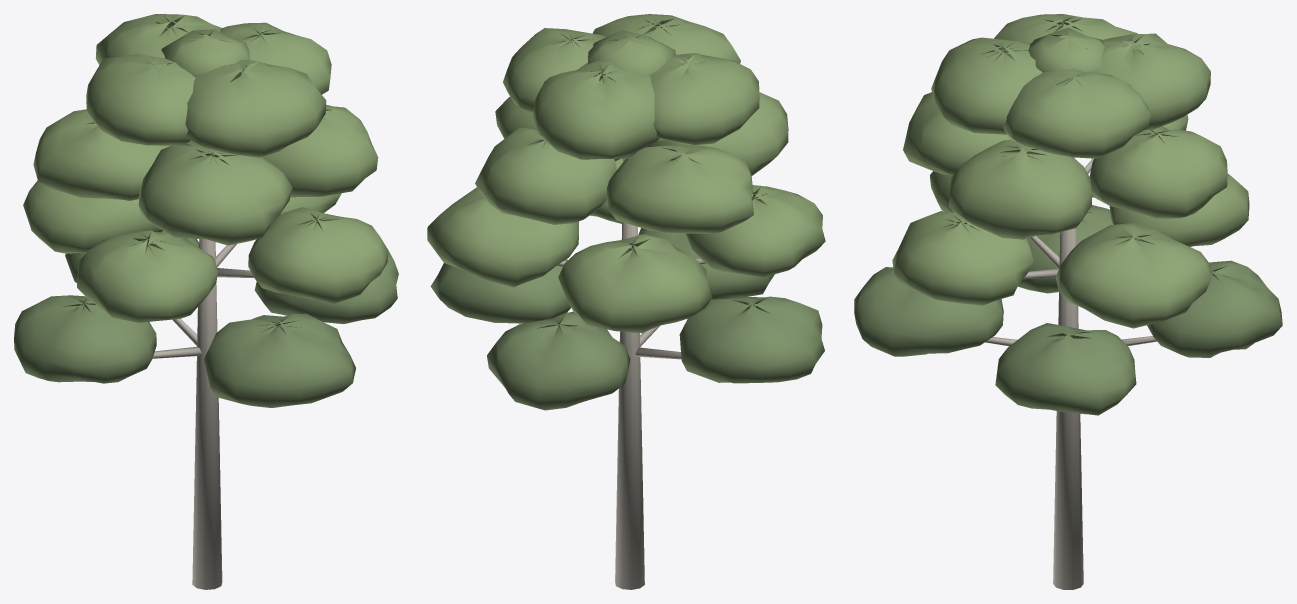
File: kapok.glb
The picture shows the model from 3 angles, left to right: view 1: azimuth 30°, elevation 25°; view 2: azimuth 150°, elevation 25°; view 3: azimuth 270°, elevation 25°; orthographic projection.
Parts seen in each view (by area): view 1: kapok_canopy_kapok, kapok_canopy_kapok_shade, kapok_canopy_bark_pale; view 2: kapok_canopy_kapok, kapok_canopy_kapok_shade, kapok_canopy_bark_pale; view 3: kapok_canopy_kapok, kapok_canopy_kapok_shade, kapok_canopy_bark_pale.
Part boxes in pixels (x1,y1,x2,y2): kapok_canopy_kapok: (23,14,388,322); kapok_canopy_kapok_shade: (14,231,398,407); kapok_canopy_bark_pale: (152,239,286,589); kapok_canopy_kapok: (427,14,825,333); kapok_canopy_kapok_shade: (430,228,824,410); kapok_canopy_bark_pale: (557,158,706,589); kapok_canopy_kapok: (892,14,1249,328); kapok_canopy_kapok_shade: (854,205,1282,415); kapok_canopy_bark_pale: (985,157,1156,589).
Size of the model in its own units: 17.33 by 24.45 by 17.33.
